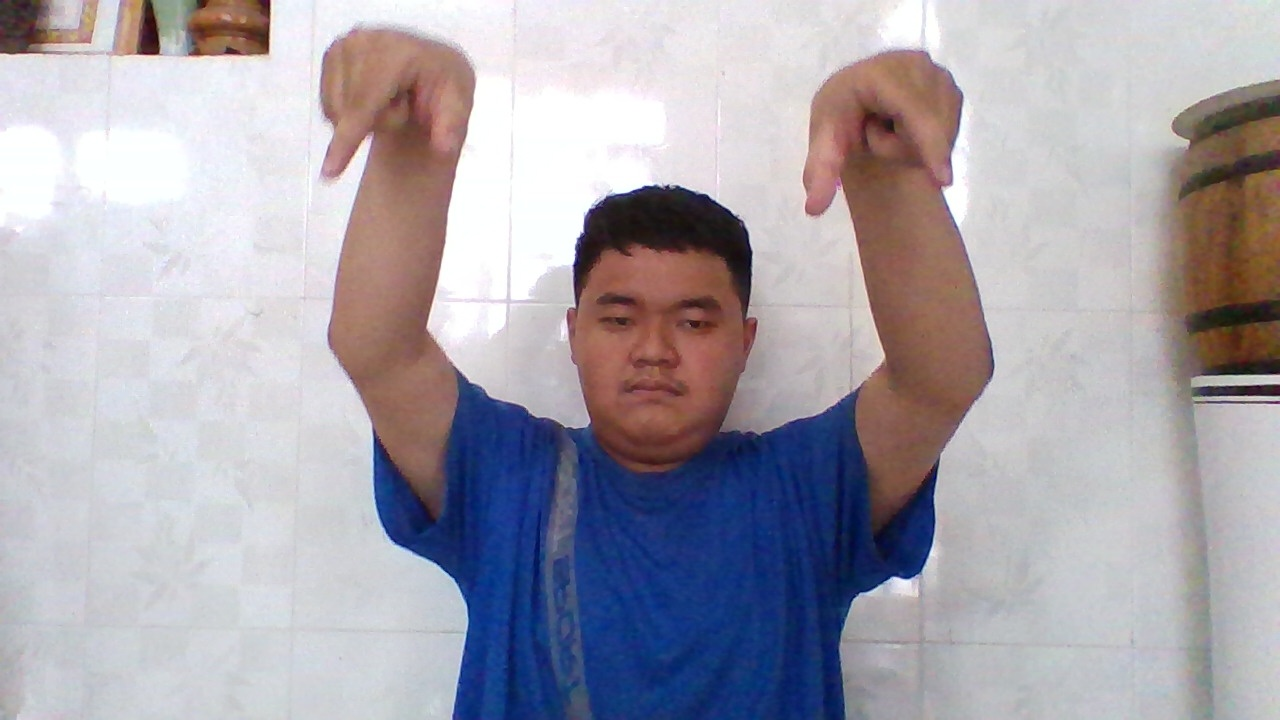Q: (795, 43, 966, 222), (307, 23, 472, 190)
